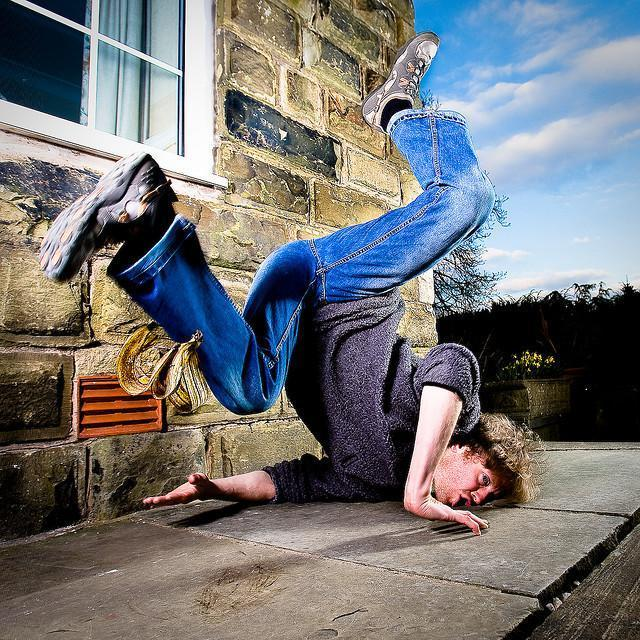banana-peel: (37, 149, 164, 282), (114, 321, 211, 415)
